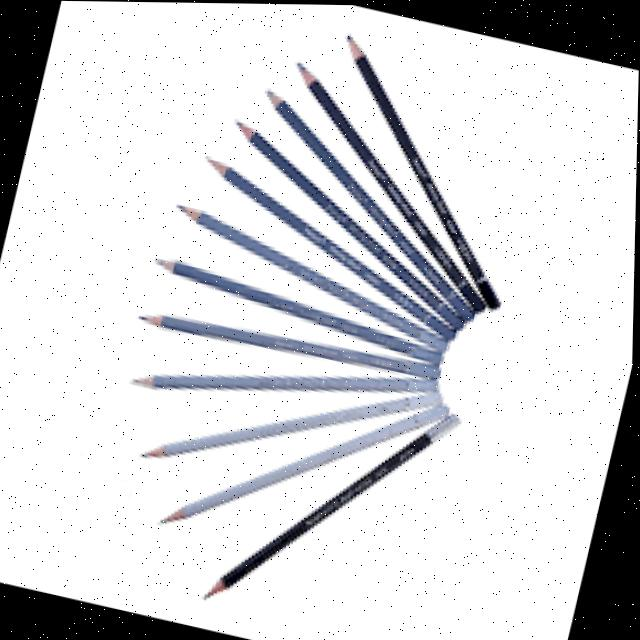pencil: (227, 110, 472, 336), (260, 78, 481, 327), (196, 410, 466, 607), (290, 56, 492, 317), (197, 152, 466, 343), (337, 22, 509, 311), (161, 194, 455, 355), (151, 402, 456, 529), (149, 255, 450, 368), (132, 390, 450, 467), (126, 307, 445, 378), (121, 369, 443, 395)
